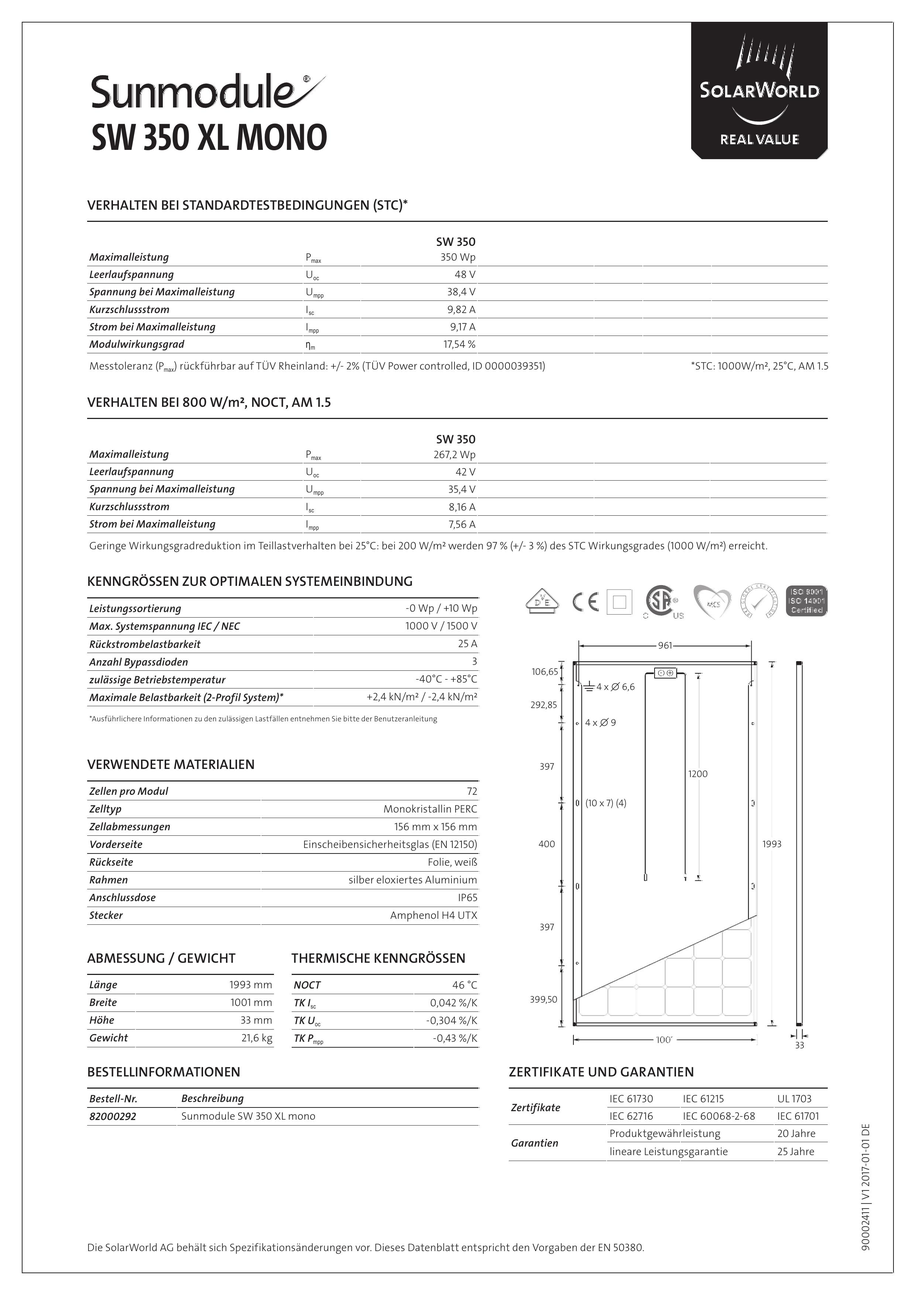table: (76, 190, 846, 374), (79, 388, 840, 553), (78, 752, 491, 929), (78, 566, 487, 729), (500, 1058, 842, 1165), (76, 1058, 487, 1131), (81, 944, 282, 1051), (284, 947, 491, 1047)
